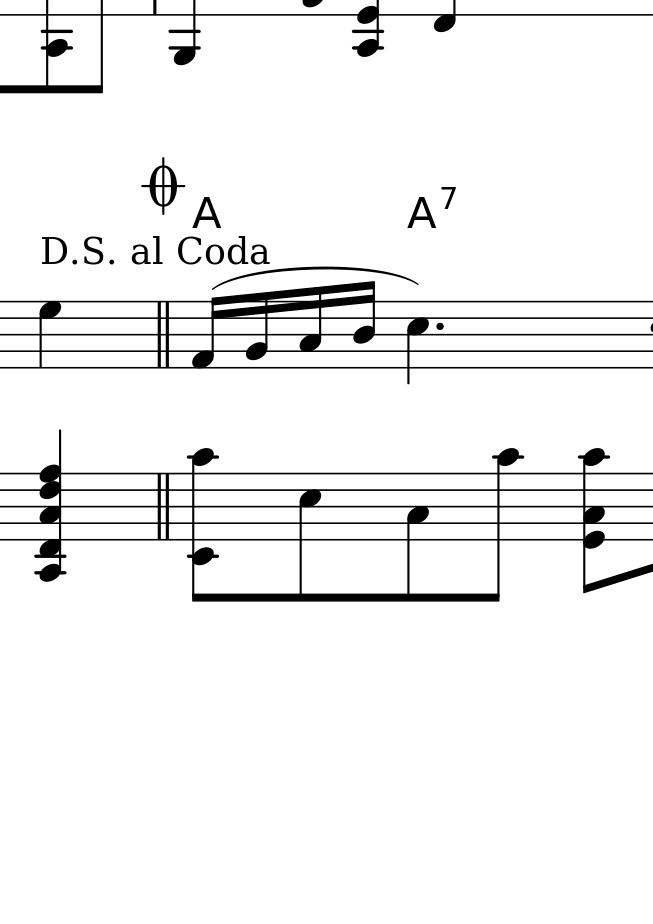16_1: (191, 295, 227, 372)
16_2: (244, 291, 270, 371)
16_3: (299, 285, 323, 369)
16_4: (354, 280, 378, 370)
4_5: (405, 299, 431, 388)
4_7: (37, 299, 65, 370)
7: (440, 182, 456, 213)
8_-2_10: (186, 448, 222, 605)
8_10: (477, 446, 521, 602)
8_3: (404, 471, 430, 604)
8_5: (297, 472, 323, 605)
Coda: (142, 155, 185, 214)
DSalcoda: (37, 233, 270, 268)
Double_barline: (152, 299, 174, 369), (155, 472, 173, 541)
Slur: (213, 266, 422, 289)
dot: (431, 319, 447, 335)
